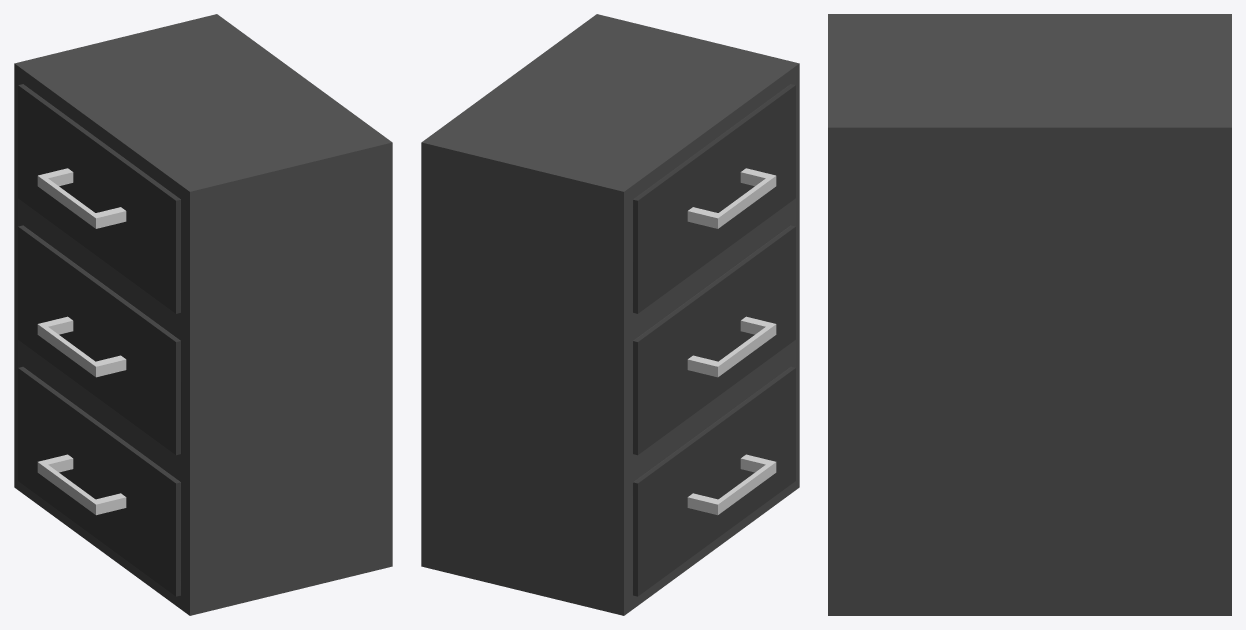
File: CabinetTextured_v1.fbx
3 views of the same model, side by side, from view 1: azimuth 30°, elevation 25°; view 2: azimuth 150°, elevation 25°; view 3: azimuth 270°, elevation 25° (orthographic). The views are drawn at different scales.
Visible parts, largest first — view 1: Cabinet; view 2: Cabinet; view 3: Cabinet.
Part boxes in pixels (x1,y1,x2,y2): Cabinet: (14, 14, 392, 615); Cabinet: (421, 14, 799, 615); Cabinet: (828, 14, 1231, 615).
Bounding box in the file's own units: 1.17 × 2 × 1.5.
